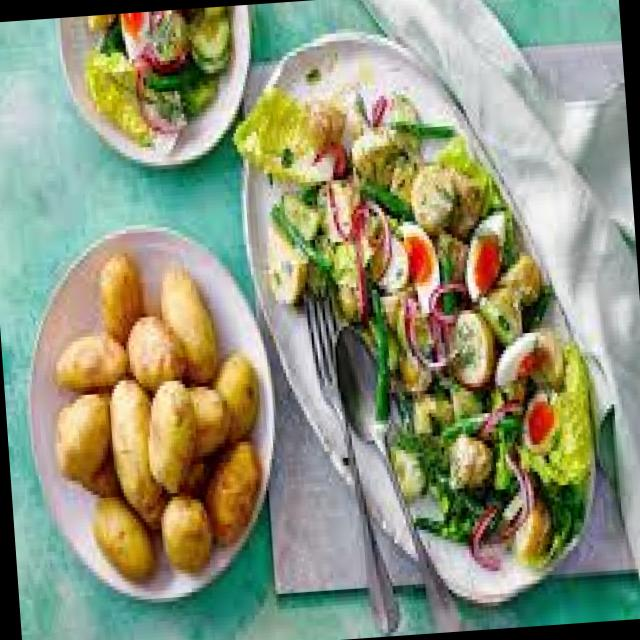Potato: (83, 472, 161, 596), (134, 380, 206, 502), (102, 363, 156, 515), (197, 436, 269, 550), (152, 270, 226, 380), (76, 245, 152, 342), (202, 332, 258, 453), (51, 326, 132, 404), (46, 398, 116, 487), (156, 486, 214, 576), (124, 309, 188, 390)
